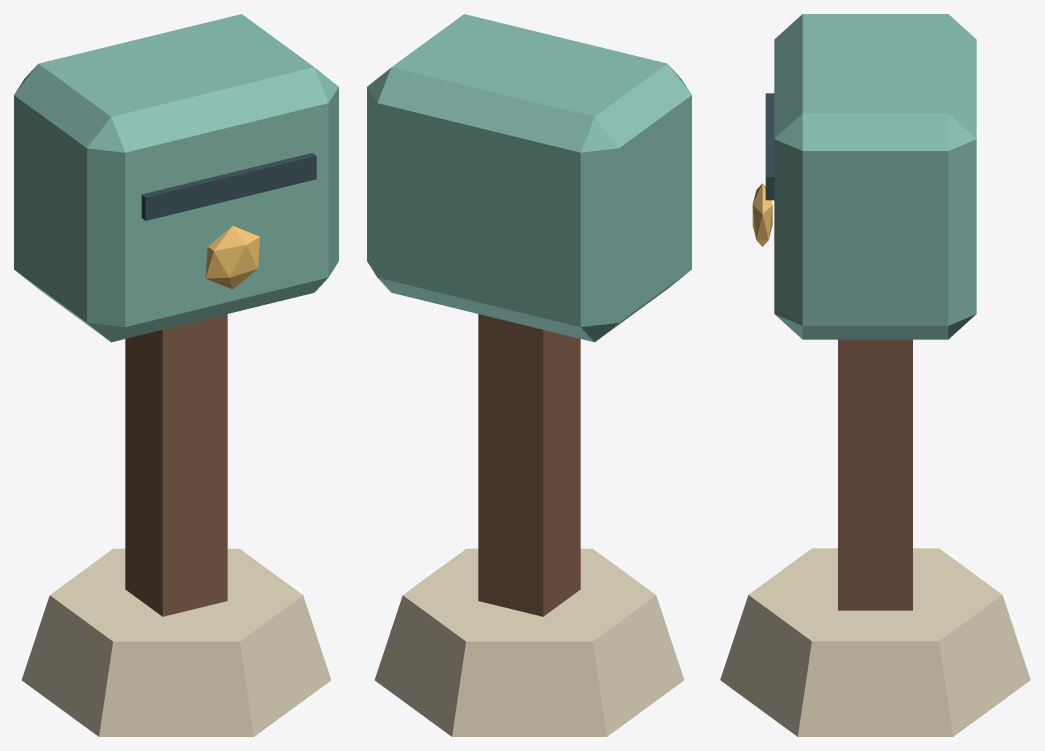
File: postbox.glb
3 renders of one model, left to right at view 1: azimuth 30°, elevation 25°; view 2: azimuth 150°, elevation 25°; view 3: azimuth 270°, elevation 25°, orthographic.
Visible parts, largest first — view 1: postbox; view 2: postbox; view 3: postbox.
Boxes of the visible parts, left/top/right/bottom form: postbox: left=14, top=14, right=338, bottom=736; postbox: left=367, top=14, right=691, bottom=736; postbox: left=720, top=14, right=1030, bottom=736.
Bounding box in the file's own units: 0.62 × 1.44 × 0.66.
